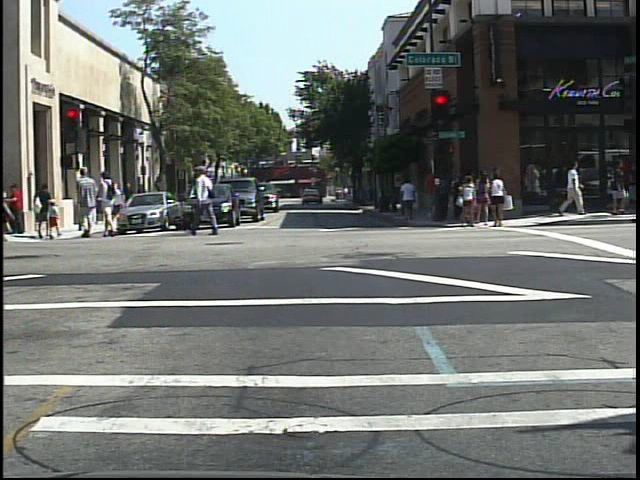person: (191, 164, 223, 237), (71, 164, 99, 243), (98, 167, 122, 239)
